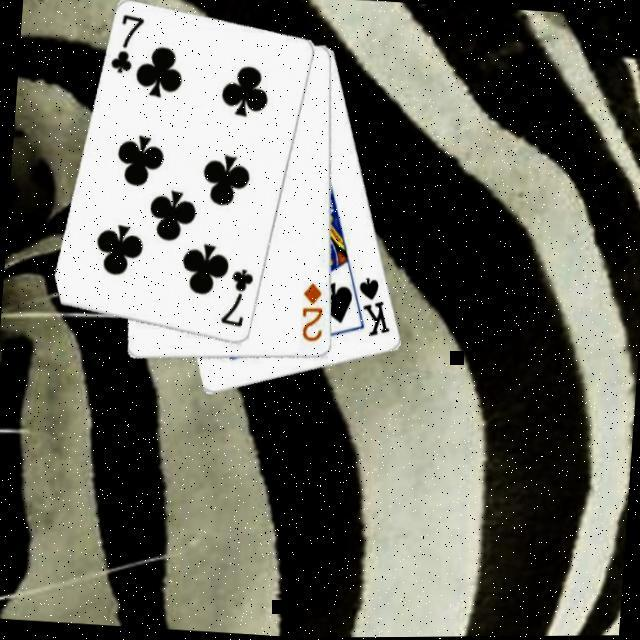2D: (298, 279, 329, 345)
7C: (108, 10, 148, 76), (218, 264, 257, 330)
KS: (353, 273, 397, 340)
